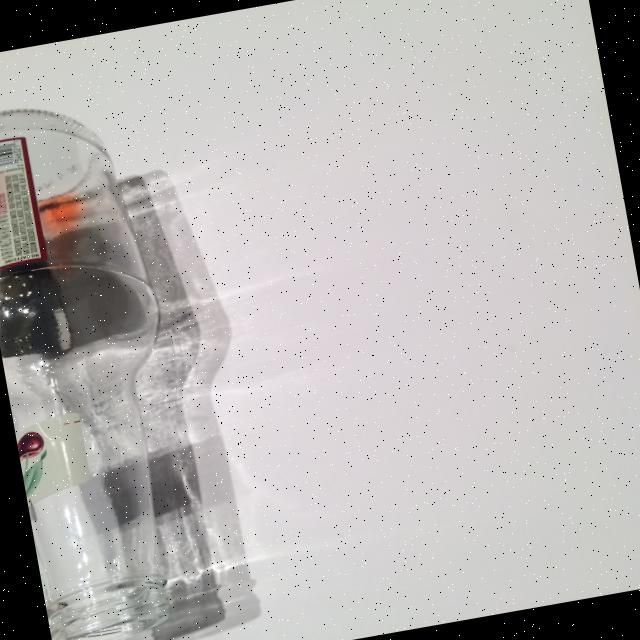glass: (0, 88, 216, 640)
